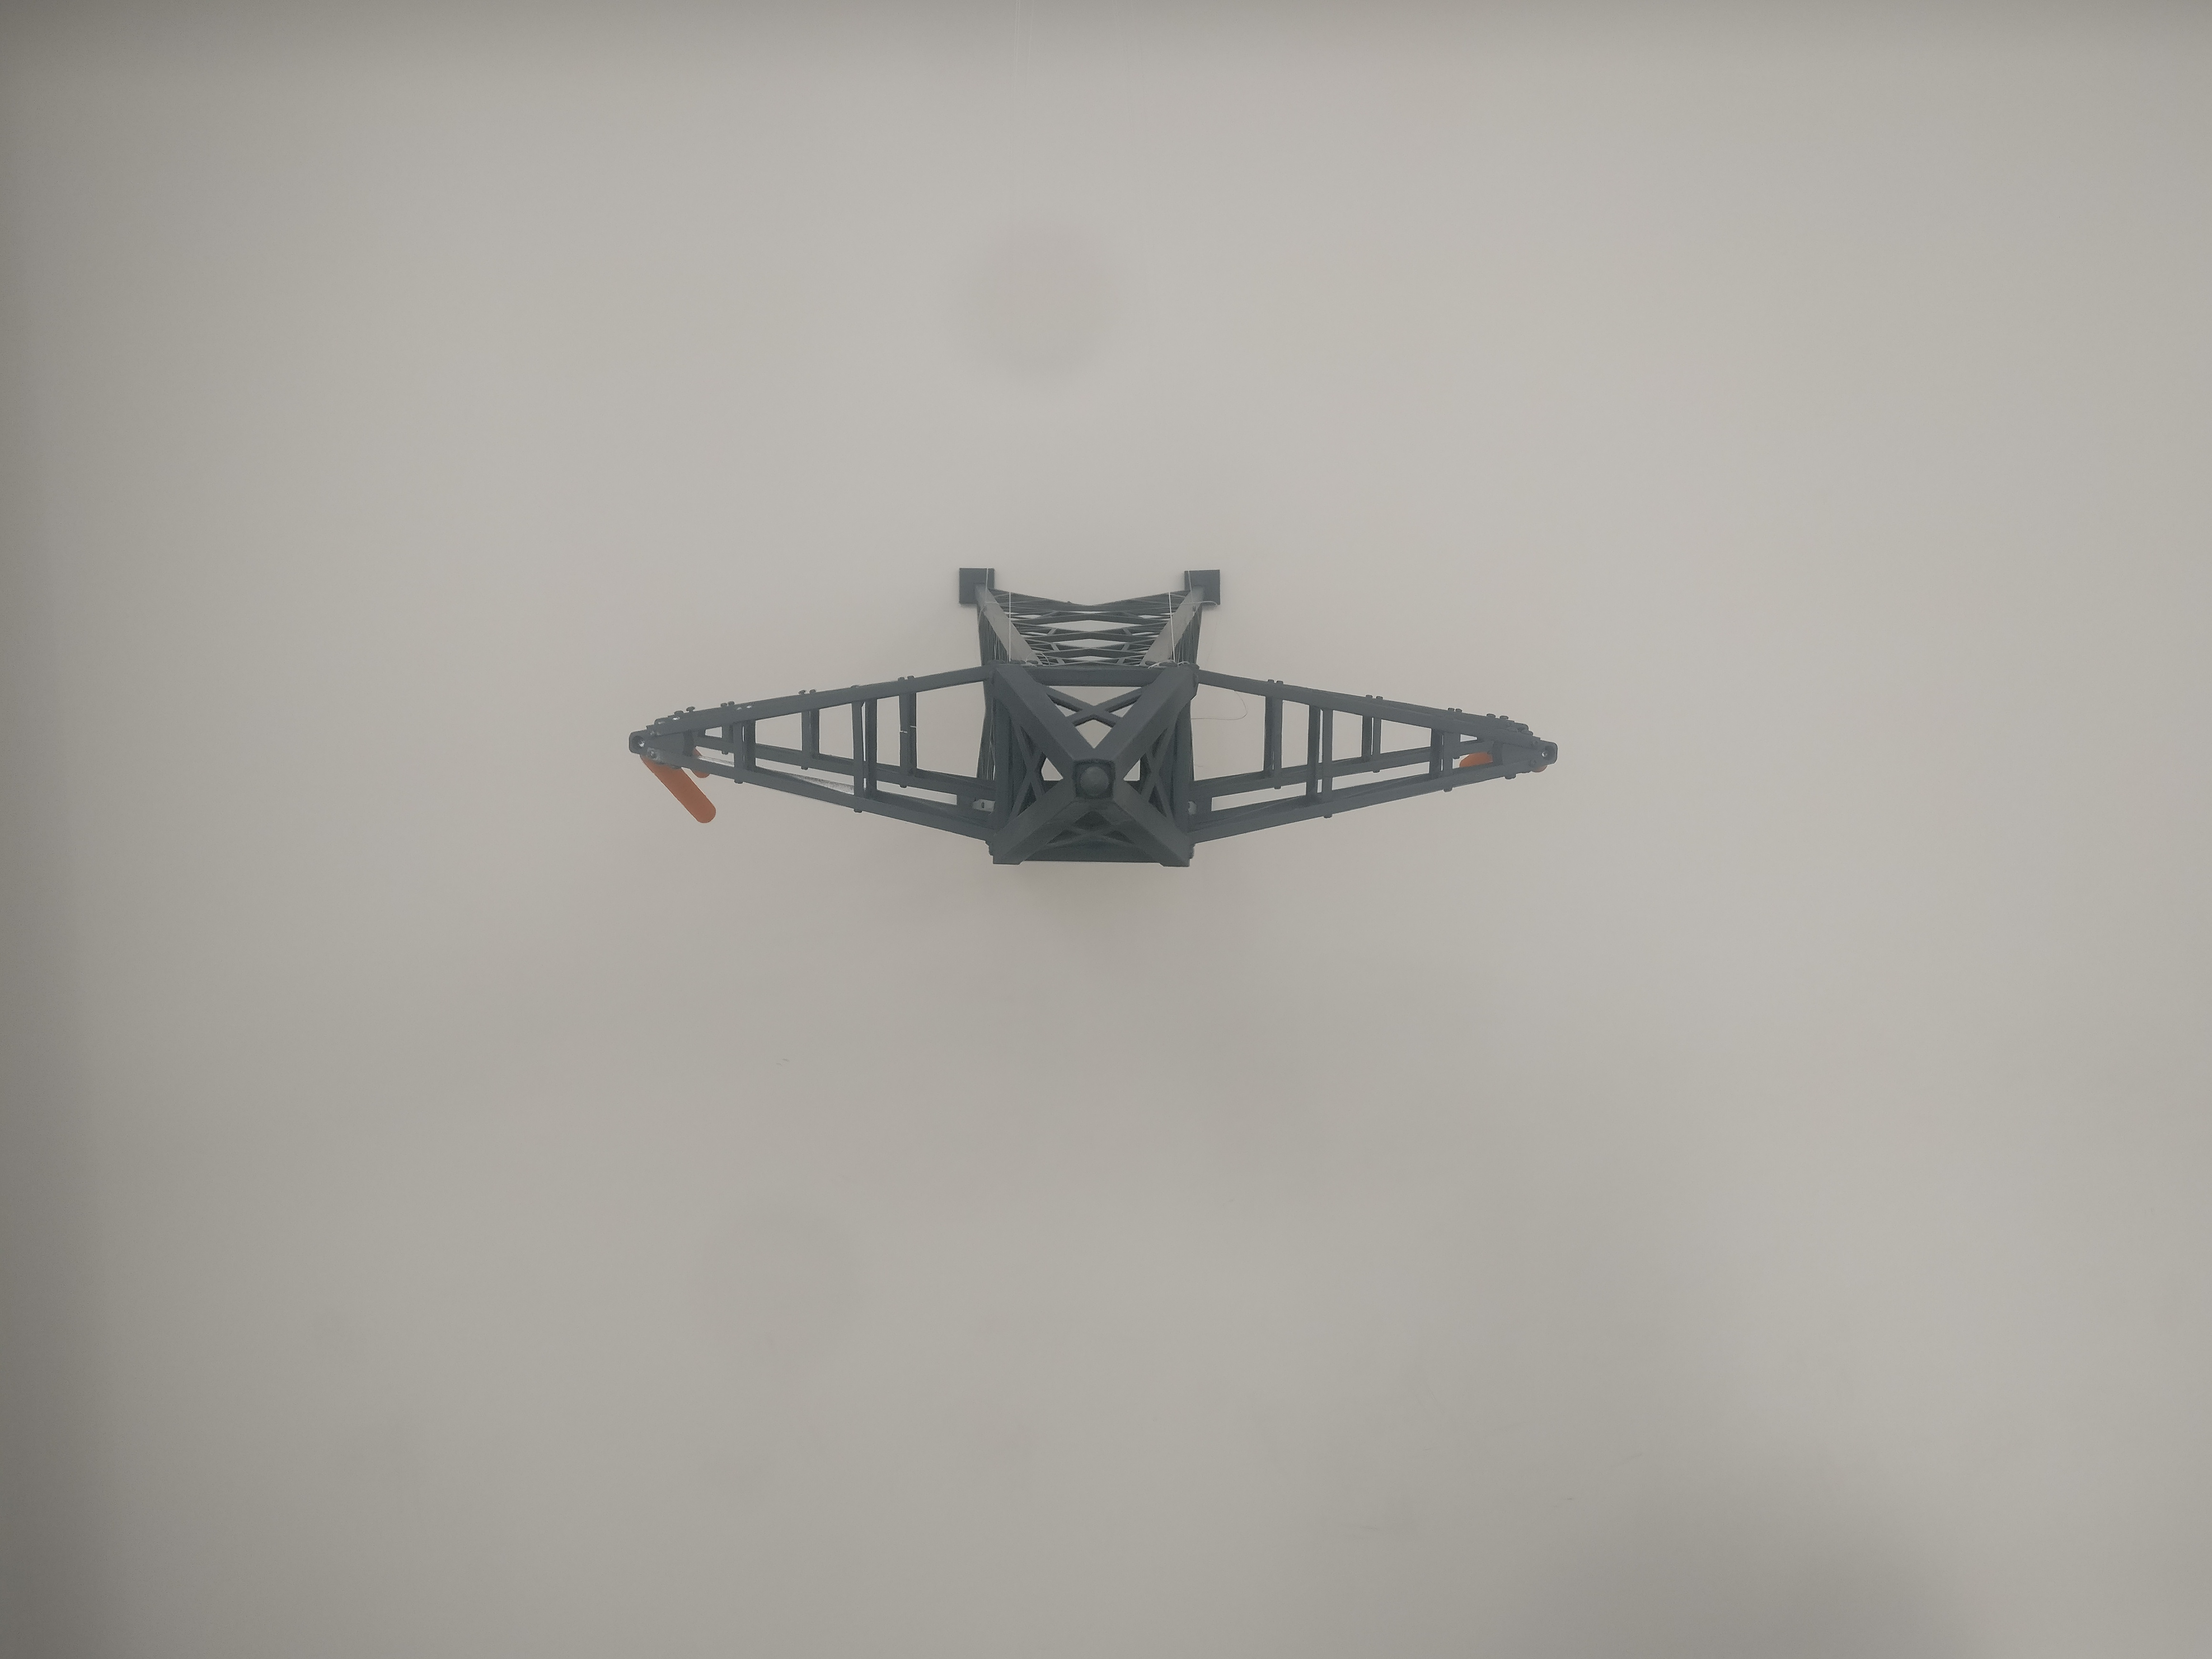pylon_phy: (627, 662, 1561, 868)
